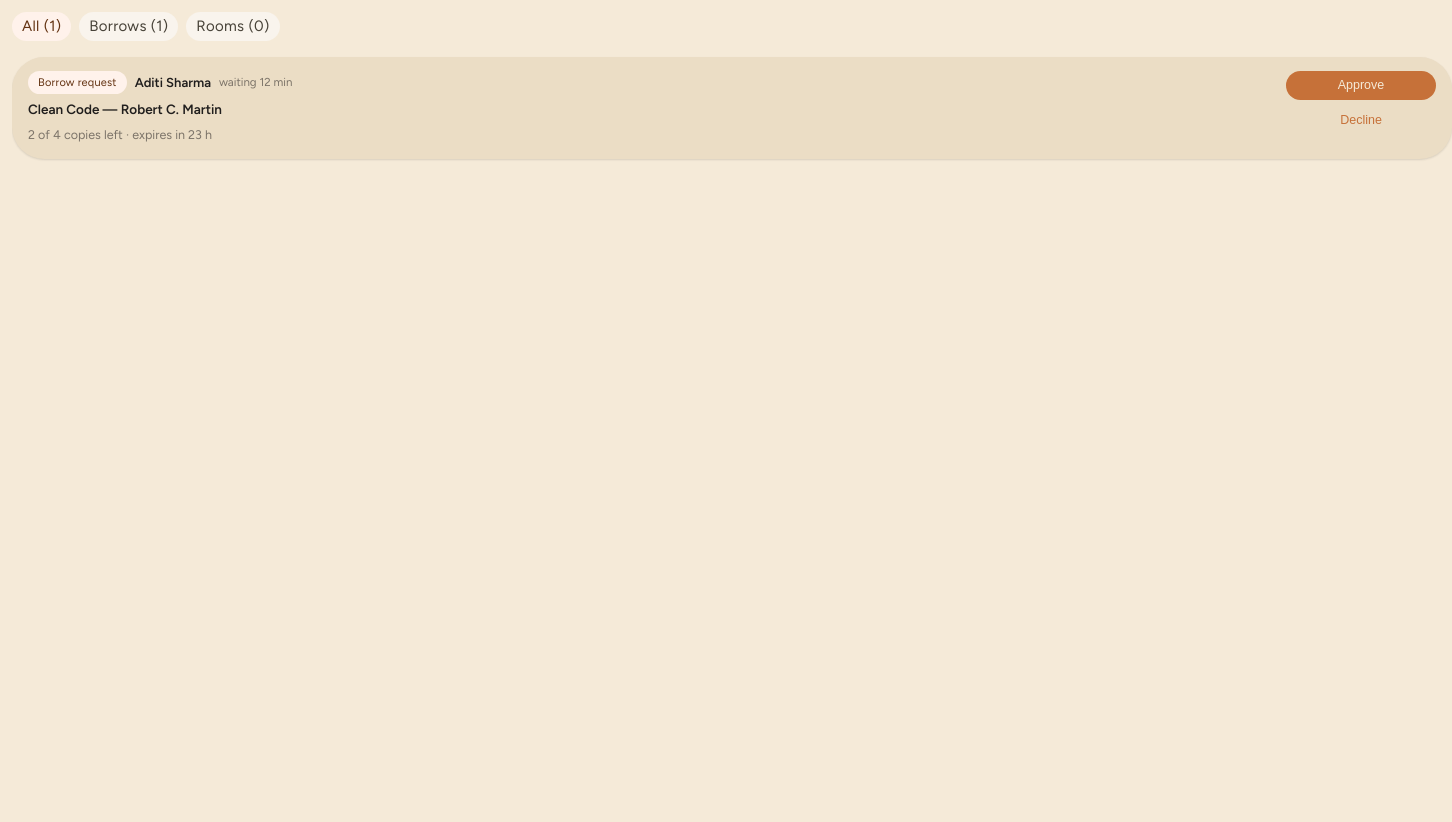
Test: Requests page › a 409 shows the server's message and refreshes the list
Click the button "Approve" at (1361, 86), box [1286,71,1436,100]
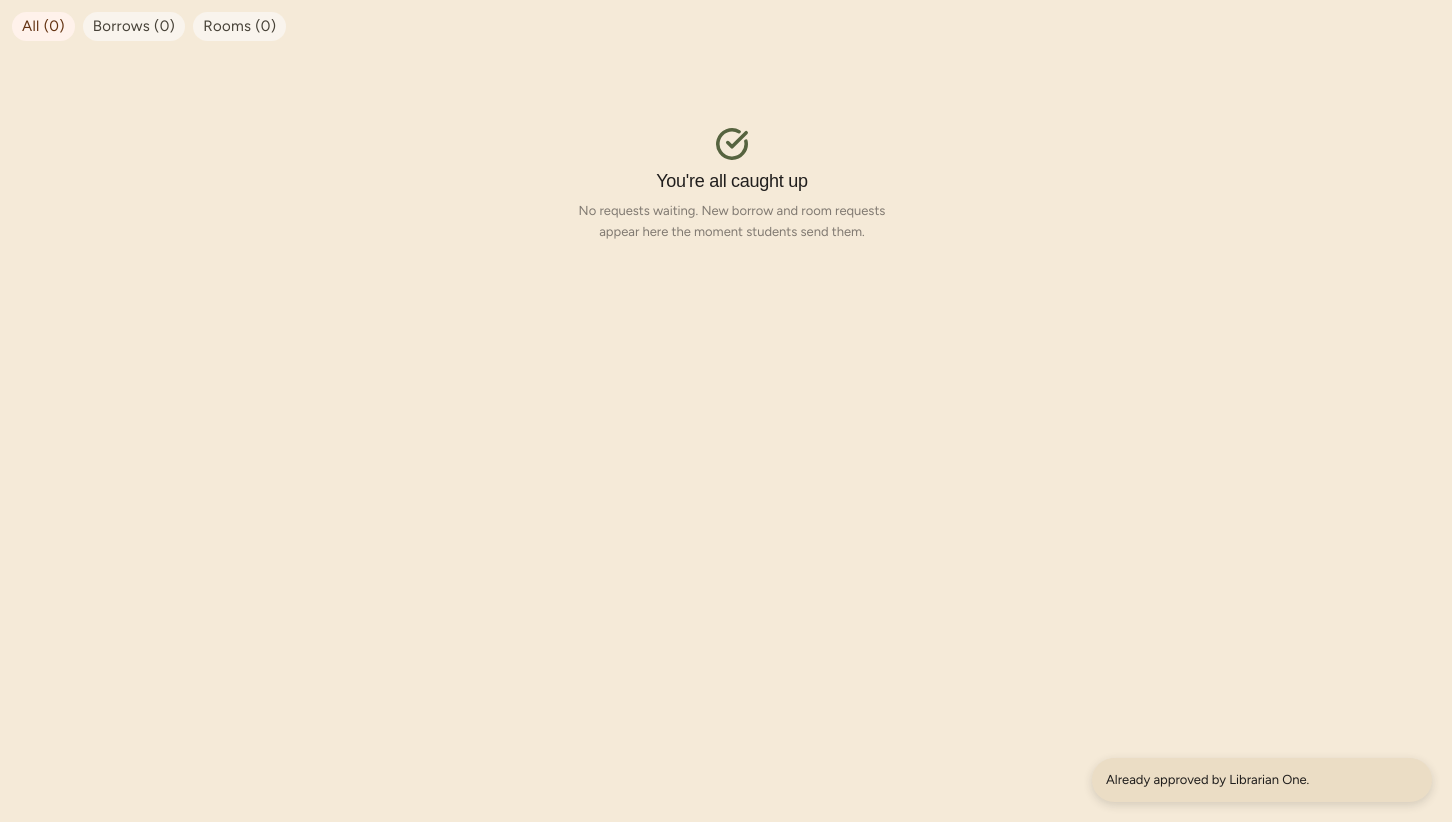
Check: the text "Already approved by Librarian One." is shown, box [1106,772,1309,787]
